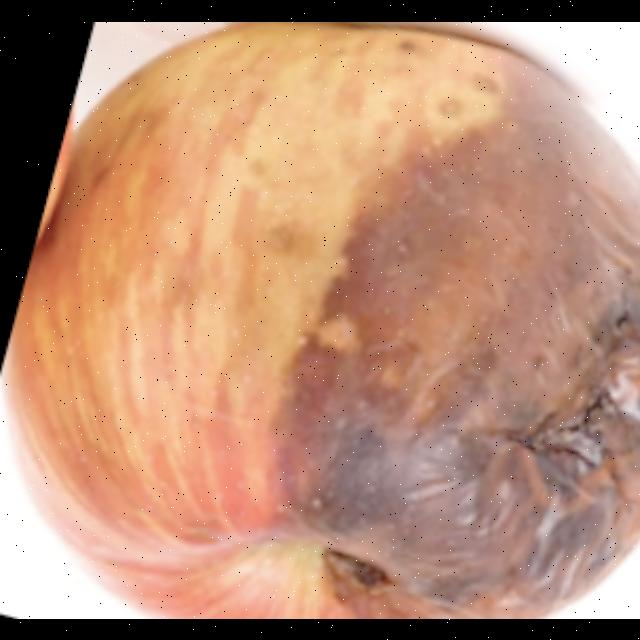Apel Tidak Segar: (16, 21, 640, 618)
